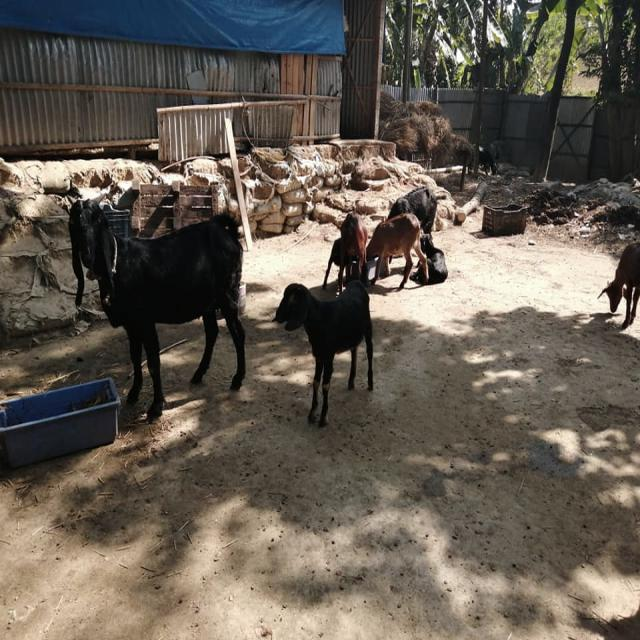Goat: (67, 197, 246, 423), (272, 278, 374, 428), (365, 211, 429, 290), (322, 211, 368, 294), (597, 241, 639, 329), (386, 185, 437, 235), (410, 232, 447, 284)
